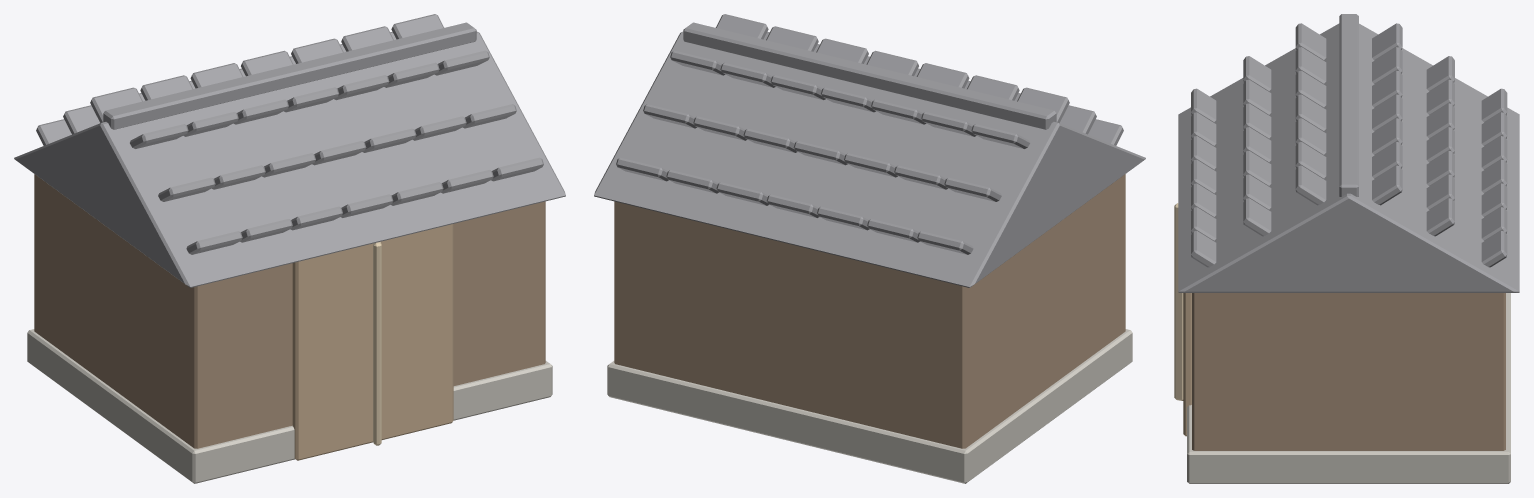
Rendered from warehouse.glb.
3 views of the same model, side by side, from view 1: azimuth 30°, elevation 25°; view 2: azimuth 150°, elevation 25°; view 3: azimuth 270°, elevation 25° (orthographic). The views are drawn at different scales.
Parts seen in each view (by area): view 1: roof, wall, door, skirt, ridge, beam, shingle.035, shingle.040, shingle.036, shingle.037, shingle.039, shingle.041 (+24 smaller); view 2: wall, roof, skirt, ridge, shingle.014, shingle.019, shingle.015, shingle.016, shingle.018, shingle.020, shingle.017, shingle.035 (+22 smaller); view 3: wall, roof, skirt, ridge, beam, door, shingle.020, shingle.041, shingle.034, shingle.013, shingle.018, shingle.015 (+36 smaller).
Part boxes in pixels (bbox=[...]): roof: bbox=[14, 31, 565, 287]; wall: bbox=[34, 174, 545, 448]; door: bbox=[292, 224, 453, 460]; skirt: bbox=[27, 329, 552, 483]; ridge: bbox=[103, 22, 476, 129]; beam: bbox=[373, 242, 381, 445]; shingle.035: bbox=[90, 87, 142, 122]; shingle.040: bbox=[341, 26, 393, 51]; shingle.036: bbox=[140, 75, 192, 100]; shingle.037: bbox=[190, 63, 243, 88]; shingle.039: bbox=[291, 38, 343, 63]; shingle.041: bbox=[391, 14, 444, 39]; wall: bbox=[614, 174, 1125, 448]; roof: bbox=[594, 31, 1145, 287]; skirt: bbox=[607, 329, 1132, 483]; ridge: bbox=[683, 22, 1056, 129]; shingle.014: bbox=[1017, 87, 1069, 122]; shingle.019: bbox=[766, 26, 818, 51]; shingle.015: bbox=[967, 75, 1019, 100]; shingle.016: bbox=[916, 63, 969, 88]; shingle.018: bbox=[816, 38, 868, 63]; shingle.020: bbox=[715, 14, 768, 39]; shingle.017: bbox=[866, 50, 918, 76]; shingle.035: bbox=[971, 124, 1029, 148]; wall: bbox=[1192, 293, 1505, 450]; roof: bbox=[1178, 23, 1519, 292]; skirt: bbox=[1187, 293, 1510, 483]; ridge: bbox=[1339, 14, 1358, 196]; beam: bbox=[1174, 203, 1183, 400]; door: bbox=[1183, 293, 1191, 436]; shingle.020: bbox=[1295, 165, 1326, 205]; shingle.041: bbox=[1372, 165, 1402, 205]; shingle.034: bbox=[1426, 198, 1454, 236]; shingle.013: bbox=[1243, 198, 1271, 236]; shingle.018: bbox=[1295, 118, 1326, 155]; shingle.015: bbox=[1295, 47, 1326, 83].
Size of the model in its own units: 2.16 by 1.69 by 1.76.
